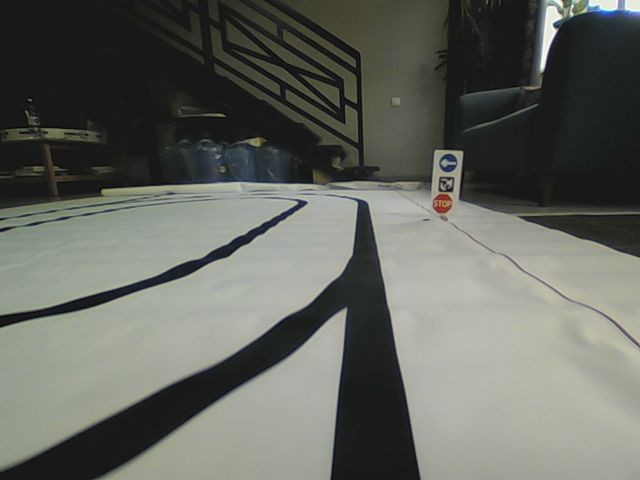Stop: (432, 192, 452, 214)
